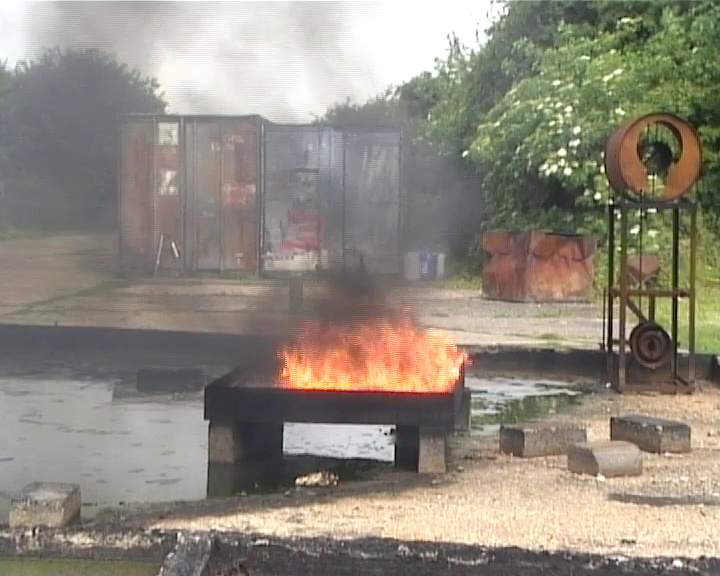fire: (283, 331, 456, 391)
